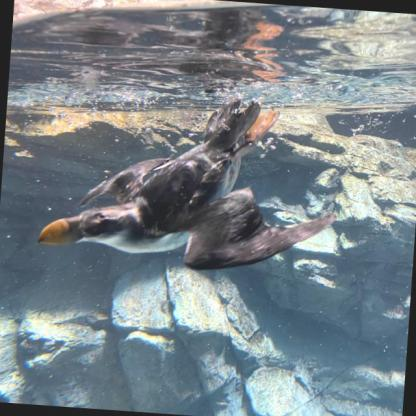puffin: (34, 76, 344, 278)
